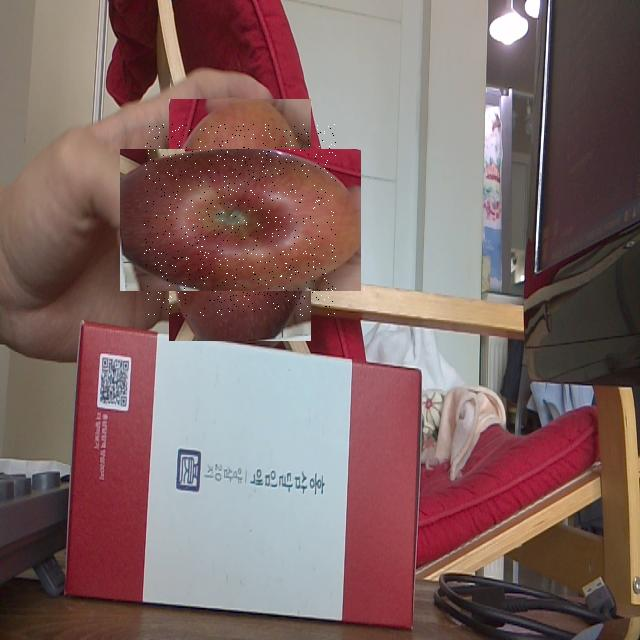apple: (144, 124, 336, 316)
